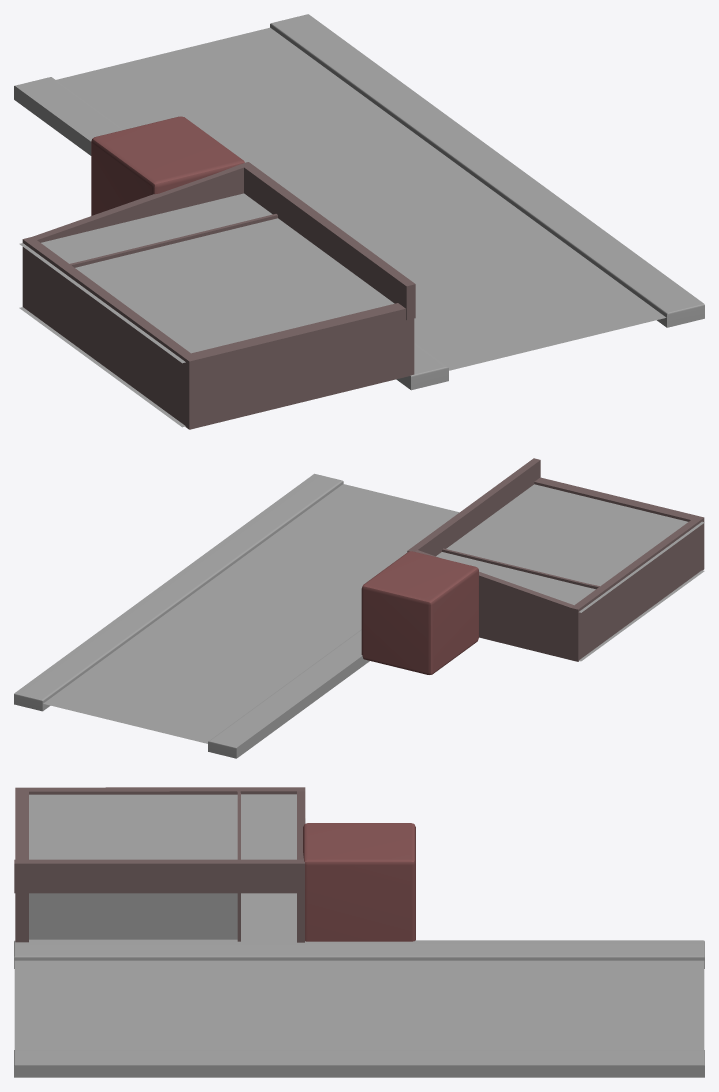
The model's file is escena.fbx.
3 renders of one model, top to bottom at view 1: azimuth 30°, elevation 25°; view 2: azimuth 150°, elevation 25°; view 3: azimuth 270°, elevation 25°, orthographic. The views are drawn at different scales.
Parts seen in each view (by area): view 1: calle_base, pCube3, pPlane4, pCube2, pCube6; view 2: calle_base, pCube3, pPlane4, pCube2, pCube6; view 3: calle_base, pCube2, pPlane4, pCube3, pCube6, reja.
Boxes of the visible parts, <box> form: calle_base: <box>56,27,666,370</box>; pCube3: <box>22,162,415,429</box>; pPlane4: <box>19,193,394,427</box>; pCube2: <box>14,14,704,390</box>; pCube6: <box>91,116,244,215</box>; calle_base: <box>43,484,459,743</box>; pCube3: <box>407,458,704,661</box>; pPlane4: <box>436,484,704,661</box>; pCube2: <box>14,473,369,758</box>; pCube6: <box>361,551,478,674</box>; calle_base: <box>14,960,704,1049</box>; pCube2: <box>14,940,704,1077</box>; pPlane4: <box>29,794,296,940</box>; pCube3: <box>14,787,305,942</box>; pCube6: <box>303,823,415,941</box>; reja: <box>29,893,237,939</box>.
Bounding box in the file's own units: 3778 × 745 × 5010.
